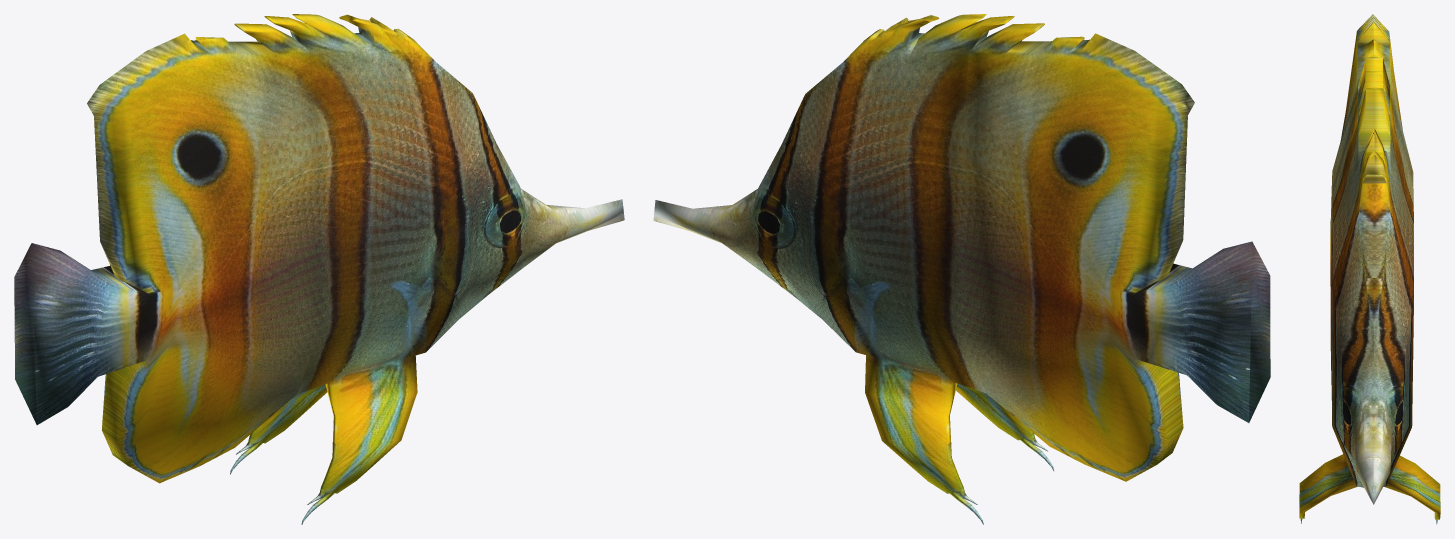
Rendered from yellow_fish.glb.
The picture shows the model from 3 angles, left to right: view 1: azimuth 30°, elevation 25°; view 2: azimuth 150°, elevation 25°; view 3: azimuth 270°, elevation 25°; orthographic projection. The views are drawn at different scales.
Visible parts, largest first — view 1: yellow_tuna; view 2: yellow_tuna; view 3: yellow_tuna.
Part boxes in pixels (x1=…): yellow_tuna: x1=14, y1=14, x2=624, y2=524; yellow_tuna: x1=653, y1=14, x2=1270, y2=524; yellow_tuna: x1=1299, y1=14, x2=1440, y2=524.
Size of the model in its own units: 3.03 by 2.29 by 0.6335.
Materials: 1 (1 with a texture image).
